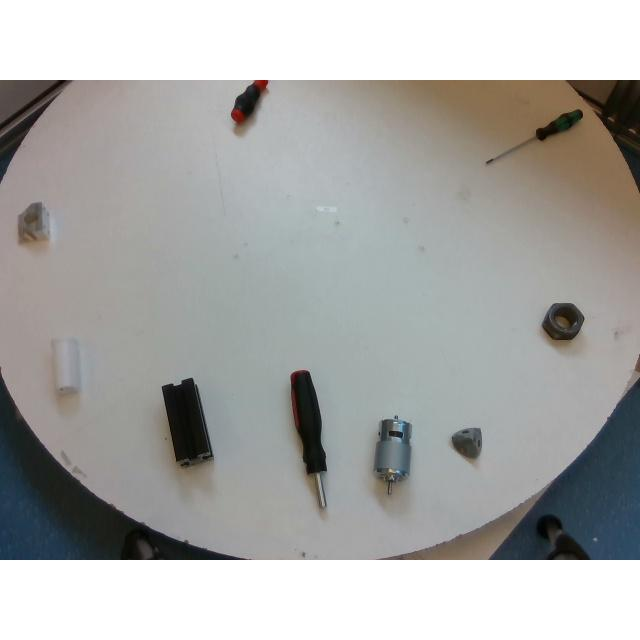M30: (542, 302, 584, 340)
Motor2: (373, 418, 411, 494)
S40_40_B: (162, 378, 212, 466)
Screwdriver: (486, 108, 582, 164)
Spacer: (52, 340, 80, 392)
